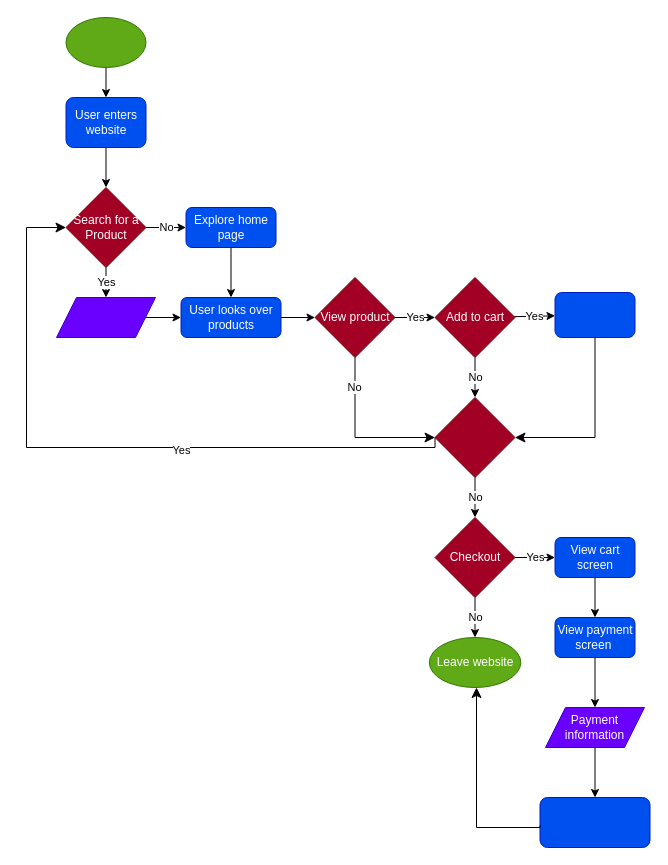
Some shapes in this 668 by 865 pixel diagram are drawn without their labels. Each missing label, with the centre of its shape:
"Add to cart confirmation" belongs at (594,315).
"Continue shopping" belongs at (474,437).
"Order confirmation screen/send out email" belongs at (594,822).
"Product" belongs at (106,317).
"Start" belongs at (105,42).
